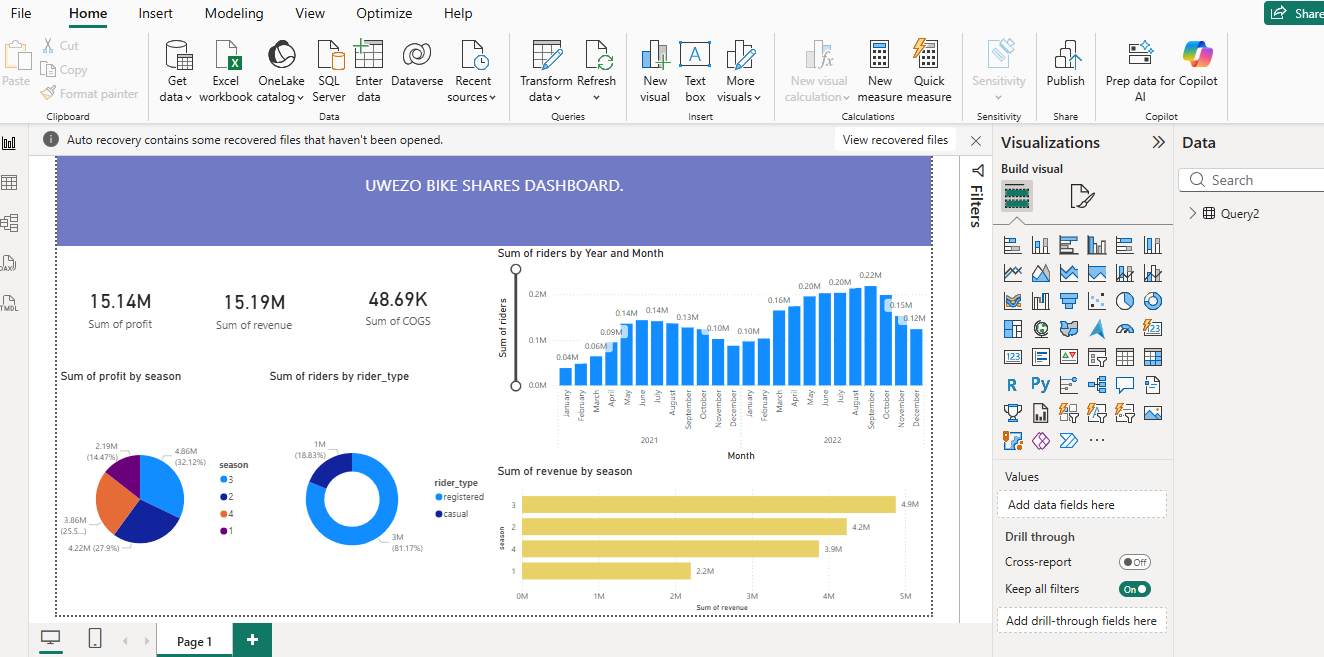

What the dashboard file says about the page in this screenshot:
{"tool":"powerbi","page":{"name":"Page 1","canvas":[1280,720],"ordinal":0},"visuals":[{"type":"shape","box":[0,0,1280,166.3],"z":0},{"type":"textbox","box":[0,0,1280,179.7],"z":1},{"type":"card","fields":{"Values":["Sum(Query2.profit)"]},"box":[0,179.7,184.8,179.7],"z":2},{"type":"card","fields":{"Values":["Sum(Query2.revenue)"]},"box":[196.1,181.5,184.4,178.5],"z":3},{"type":"card","fields":{"Values":["Sum(Query2.COGS)"]},"box":[406.8,180,184.4,171.2],"z":4},{"type":"lineStackedColumnComboChart","fields":{"Category":["Query2.dteday.Variation.Date Hierarchy.Year","Query2.dteday.Variation.Date Hierarchy.Month"],"Y":["Sum(Query2.riders)"]},"box":[639.5,180,641,319],"z":5},{"type":"barChart","fields":{"Y":["Sum(Query2.revenue)"],"Category":["Query2.season"]},"box":[639.5,499,641,221],"z":6},{"type":"donutChart","fields":{"Category":["Query2.rider_type"],"Y":["Sum(Query2.riders)"]},"box":[305.9,360,333.7,360],"z":7},{"type":"pieChart","fields":{"Y":["Sum(Query2.profit)"],"Category":["Query2.season"]},"box":[0,360,305.9,360],"z":8}]}

Visuals, with their boxes on the page's 1280x720 design canvas (x1, y1, x2, y2). These are canvas units, not pixel positions in the 1324x657 screenshot, which may show the page scaled, cropped or inside an application window:
shape: 0, 0, 1280, 166
textbox: 0, 0, 1280, 180
card - Sum(Query2.profit): 0, 180, 185, 359
card - Sum(Query2.revenue): 196, 182, 380, 360
card - Sum(Query2.COGS): 407, 180, 591, 351
lineStackedColumnComboChart - Query2.dteday.Variation.Date Hierarchy.Year x Query2.dteday.Variation.Date Hierarchy.Month: 640, 180, 1280, 499
barChart - Sum(Query2.revenue) x Query2.season: 640, 499, 1280, 720
donutChart - Query2.rider_type x Sum(Query2.riders): 306, 360, 640, 720
pieChart - Sum(Query2.profit) x Query2.season: 0, 360, 306, 720
